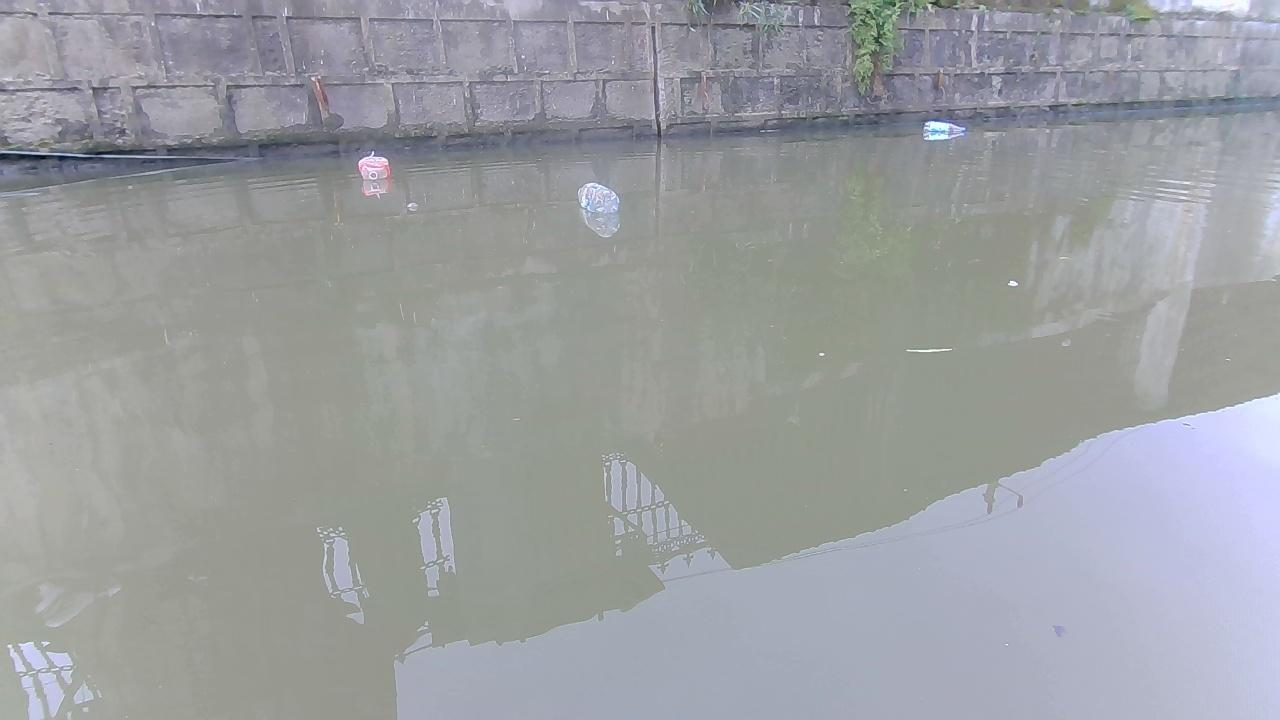bottle: (575, 182, 621, 212), (355, 154, 390, 185), (921, 120, 965, 136)
